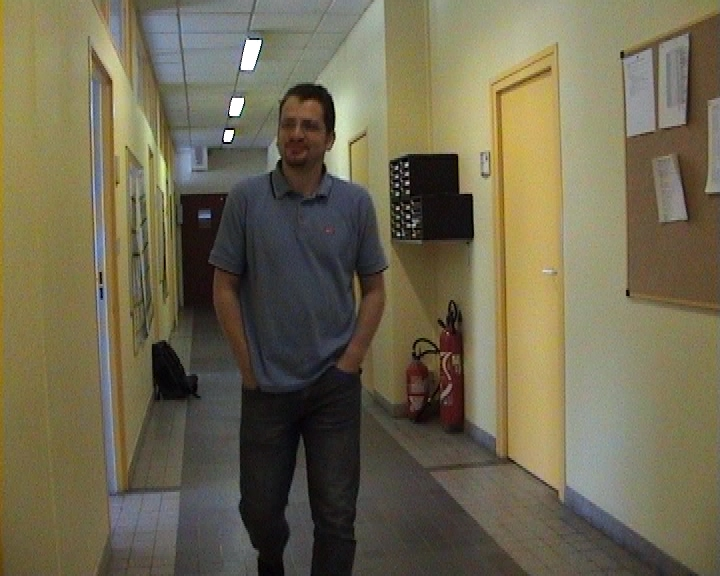leave bag unattended: (127, 323, 241, 468)
